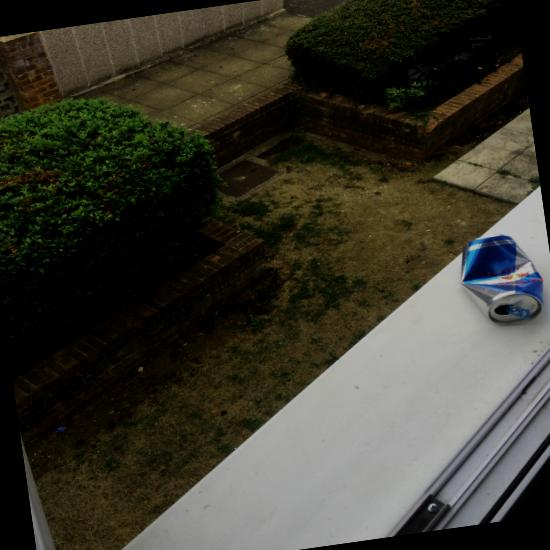Drink can: (459, 234, 543, 325)
Garbage bag: (453, 27, 498, 76), (434, 47, 478, 97), (401, 59, 445, 104)
Pop tab: (506, 305, 530, 318)
